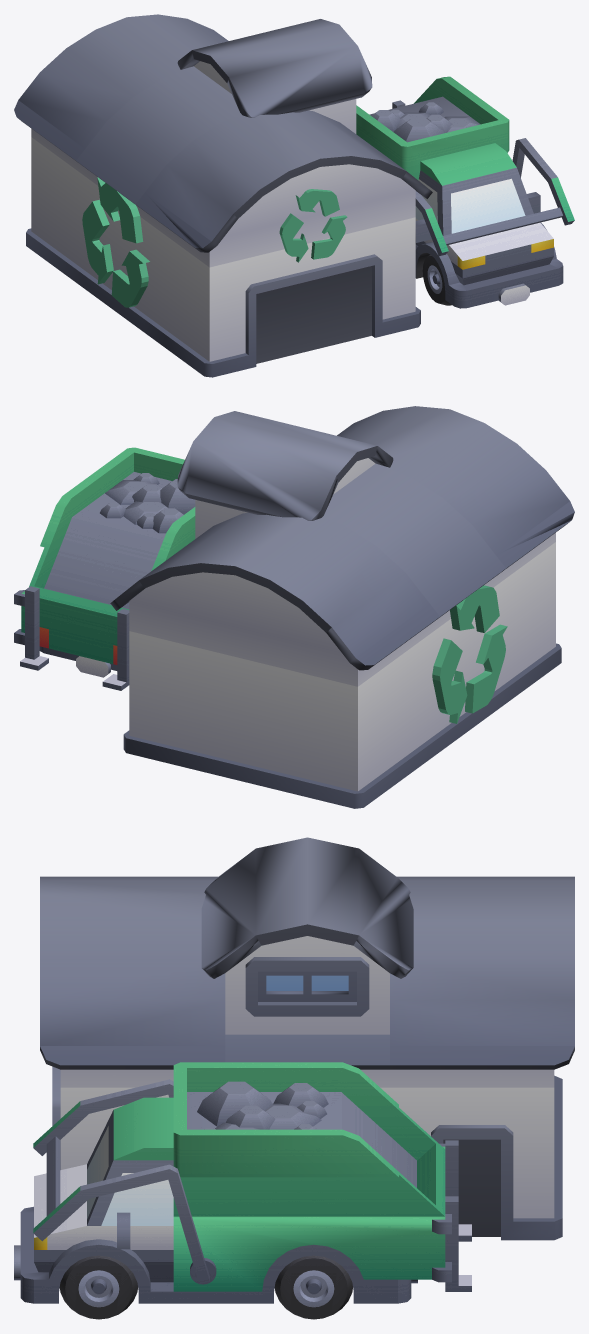
File: garbage_station.glb
The picture shows the model from 3 angles, top to bottom: view 1: azimuth 30°, elevation 25°; view 2: azimuth 150°, elevation 25°; view 3: azimuth 270°, elevation 25°; orthographic projection. The views are drawn at different scales.
Parts seen in each view (by area): view 1: building-j.002; view 2: building-j.002; view 3: building-j.002.
Part boxes in pixels (box(x1,y1,x2,y2)): building-j.002: box(14, 14, 574, 377); building-j.002: box(14, 406, 574, 808); building-j.002: box(14, 837, 574, 1319).
Bounding box in the file's own units: 1.15 × 0.6891 × 1.09.
Materials: 3 (2 with a texture image).
